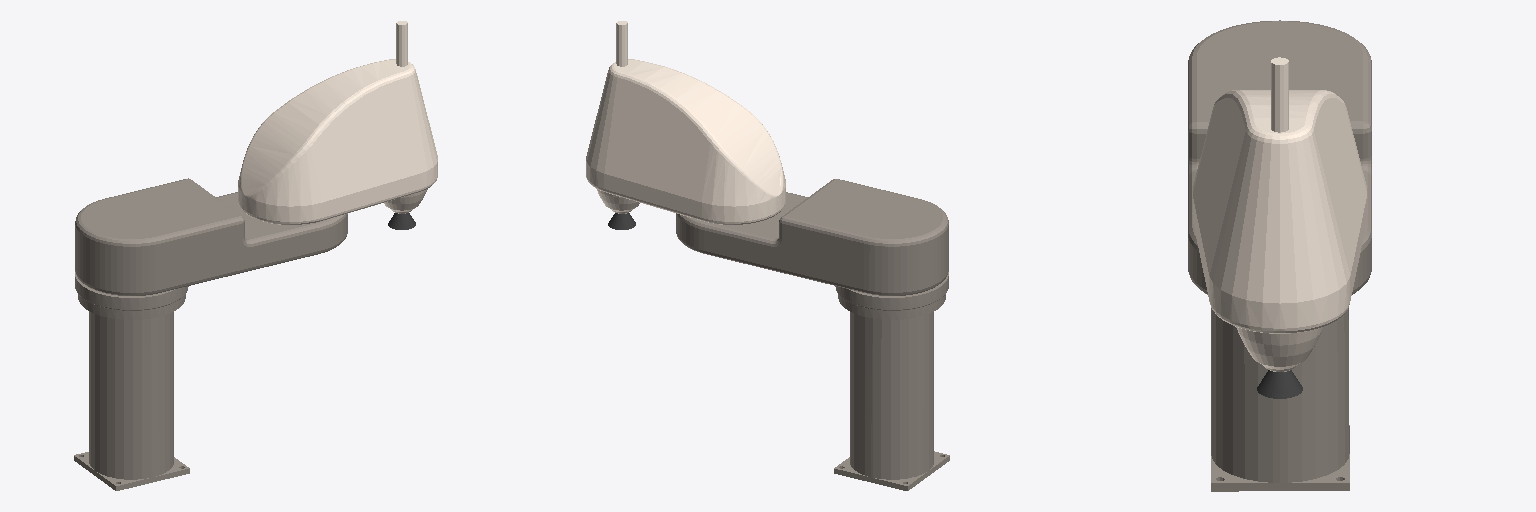
URDF robot description (scara_mit_dh_urdf):
<?xml version="1.0" encoding="utf-8"?>
<!-- This URDF was automatically created by SolidWorks to URDF Exporter! Originally created by [author] ([email redacted]) 
     Commit Version: 1.6.0-4-g7f85cfe  Build Version: 1.6.7995.38578
     For more information, please see http://wiki.ros.org/sw_urdf_exporter -->
<robot
  name="scara_mit_dh_urdf">

  <link name='world'/> 
  <joint name="fixedToWorld" type="fixed">
    <origin
      xyz="0 0 1"
      rpy="-1.57 0 0" />
    <parent link="world" />
    <child link="base_link" />
  </joint>

  <link
    name="base_link">
    <inertial>
      <origin
        xyz="-3.99506576600143E-18 5.33137969018105E-18 0.180234931906412"
        rpy="0 0 0" />
      <mass
        value="50.5064528015554" />
      <inertia
        ixx="0.507467643046138"
        ixy="2.23371852613819E-18"
        ixz="-2.20689887022559E-17"
        iyy="0.507467643046138"
        iyz="7.80868643803156E-18"
        izz="0.164615591191858" />
    </inertial>
    <visual>
      <origin
        xyz="0 0 0"
        rpy="0 0 0" />
      <geometry>
        <mesh
          filename="package://scara_mit_dh_urdf/meshes/base_link.STL" />
      </geometry>
      <material
        name="">
        <color
          rgba="0.650980392156863 0.619607843137255 0.588235294117647 1" />
      </material>
    </visual>
    <collision>
      <origin
        xyz="0 0 0"
        rpy="0 0 0" />
      <geometry>
        <mesh
          filename="package://scara_mit_dh_urdf/meshes/base_link.STL" />
      </geometry>
    </collision>
  </link>
  <link
    name="l1">
    <inertial>
      <origin
        xyz="0.120817727289337 9.30999931508023E-07 0.0513770238788596"
        rpy="0 0 0" />
      <mass
        value="49.5926714803606" />
      <inertia
        ixx="0.222900609838824"
        ixy="2.0310593816954E-17"
        ixz="0.0739678064109204"
        iyy="0.736885929341891"
        iyz="6.2640615149761E-18"
        izz="0.8650916120764" />
    </inertial>
    <visual>
      <origin
        xyz="0 0 0"
        rpy="0 0 0" />
      <geometry>
        <mesh
          filename="package://scara_mit_dh_urdf/meshes/l1.STL" />
      </geometry>
      <material
        name="">
        <color
          rgba="0.650980392156863 0.619607843137255 0.588235294117647 1" />
      </material>
    </visual>
    <collision>
      <origin
        xyz="0 0 0"
        rpy="0 0 0" />
      <geometry>
        <mesh
          filename="package://scara_mit_dh_urdf/meshes/l1.STL" />
      </geometry>
    </collision>
  </link>
  <joint
    name="j1"
    type="revolute">
    <origin
      xyz="0 -0.375 0"
      rpy="1.5708 0 0" />
    <parent
      link="base_link" />
    <child
      link="l1" />
    <axis
      xyz="0 0 1" />
    <limit
      lower="-2.7"
      upper="2.7"
      effort="10000"
      velocity="1" />
    <dynamics
      damping="0.2"
      friction="0.5" />
  </joint>
  <link
    name="l2">
    <inertial>
      <origin
        xyz="-0.112811619112 2.03690357156592E-08 -0.08488266623816"
        rpy="0 0 0" />
      <mass
        value="32.5846948095504" />
      <inertia
        ixx="0.16446281982603"
        ixy="-2.66721834411411E-07"
        ixz="0.00501596079265974"
        iyy="0.377276755482314"
        iyz="1.55740958096566E-07"
        izz="0.328743826647255" />
    </inertial>
    <visual>
      <origin
        xyz="0 0 0"
        rpy="0 0 0" />
      <geometry>
        <mesh
          filename="package://scara_mit_dh_urdf/meshes/l2.STL" />
      </geometry>
      <material
        name="">
        <color
          rgba="1 0.949019607843137 0.898039215686275 1" />
      </material>
    </visual>
    <collision>
      <origin
        xyz="0 0 0"
        rpy="0 0 0" />
      <geometry>
        <mesh
          filename="package://scara_mit_dh_urdf/meshes/l2.STL" />
      </geometry>
    </collision>
  </link>
  <joint
    name="j2"
    type="revolute">
    <origin
      xyz="0.325 0 0.06"
      rpy="3.1416 0 3.1416" />
    <parent
      link="l1" />
    <child
      link="l2" />
    <axis
      xyz="0 0 1" />
    <limit
      lower="-2.7"
      upper="2.7"
      effort="10000"
      velocity="1" />
    <dynamics
      damping="0.2"
      friction="0.5" />
  </joint>
  <link
    name="l3">
    <inertial>
      <origin
        xyz="-1.11022302462516E-16 3.84661319935812E-17 -0.185"
        rpy="0 0 0" />
      <mass
        value="0.460306155603976" />
      <inertia
        ixx="0.00526283371240546"
        ixy="1.18856148373066E-37"
        ixz="-6.80626111769164E-20"
        iyy="0.00526283371240546"
        iyz="2.77378988674234E-34"
        izz="2.30153077801988E-05" />
    </inertial>
    <visual>
      <origin
        xyz="0 0 0"
        rpy="0 0 0" />
      <geometry>
        <mesh
          filename="package://scara_mit_dh_urdf/meshes/l3.STL" />
      </geometry>
      <material
        name="">
        <color
          rgba="1 0.949019607843137 0.898039215686275 1" />
      </material>
    </visual>
    <collision>
      <origin
        xyz="0 0 0"
        rpy="0 0 0" />
      <geometry>
        <mesh
          filename="package://scara_mit_dh_urdf/meshes/l3.STL" />
      </geometry>
    </collision>
  </link>
  <joint
    name="j3"
    type="prismatic">
    <origin
      xyz="-0.225 0 0.06926"
      rpy="0 0 0" />
    <parent
      link="l2" />
    <child
      link="l3" />
    <axis
      xyz="0 0 1" />
    <limit
      lower="0"
      upper="290"
      effort="10000"
      velocity="1" />
    <dynamics
      damping="0.2"
      friction="0.5" />
  </joint>
  <link
    name="l4">
    <inertial>
      <origin
        xyz="-3.33066907387547E-16 4.16333634234434E-17 0.0115960504326883"
        rpy="0 0 0" />
      <mass
        value="0.00734707672394354" />
      <inertia
        ixx="1.56955034877565E-06"
        ixy="-1.85288457211878E-22"
        ixz="-2.27667438887459E-22"
        iyy="1.56955034877565E-06"
        iyz="-6.48270541037055E-23"
        izz="2.46567234921726E-06" />
    </inertial>
    <visual>
      <origin
        xyz="0 0 0"
        rpy="0 0 0" />
      <geometry>
        <mesh
          filename="package://scara_mit_dh_urdf/meshes/l4.STL" />
      </geometry>
      <material
        name="">
        <color
          rgba="0.298039215686275 0.298039215686275 0.298039215686275 1" />
      </material>
    </visual>
    <collision>
      <origin
        xyz="0 0 0"
        rpy="0 0 0" />
      <geometry>
        <mesh
          filename="package://scara_mit_dh_urdf/meshes/l4.STL" />
      </geometry>
    </collision>
  </link>
  <joint
    name="j4"
    type="revolute">
    <origin
      xyz="0 0 0"
      rpy="0 0 -3.0137" />
    <parent
      link="l3" />
    <child
      link="l4" />
    <axis
      xyz="0 0 1" />
    <limit
      lower="-6.2"
      upper="6.2"
      effort="10000"
      velocity="1" />
    <dynamics
      damping="0.2"
      friction="0.5" />
  </joint>

    <transmission name="trans_j1">
        <type>transmission_interface/SimpleTransmission</type>
        <joint name="j1">
            <hardwareInterface>hardware_interface/PositionJointInterface</hardwareInterface>
        </joint>
        <actuator name="j1_motor">
            <hardwareInterface>hardware_interface/PositionJointInterface</hardwareInterface>
            <mechanicalReduction>1</mechanicalReduction>
        </actuator>
    </transmission>
    <transmission name="trans_j2">
        <type>transmission_interface/SimpleTransmission</type>
        <joint name="j2">
            <hardwareInterface>hardware_interface/PositionJointInterface</hardwareInterface>
        </joint>
        <actuator name="j2_motor">
            <hardwareInterface>hardware_interface/PositionJointInterface</hardwareInterface>
            <mechanicalReduction>1</mechanicalReduction>
        </actuator>
    </transmission>
    <transmission name="trans_j3">
        <type>transmission_interface/SimpleTransmission</type>
        <joint name="j3">
            <hardwareInterface>hardware_interface/PositionJointInterface</hardwareInterface>
        </joint>
        <actuator name="j3_motor">
            <hardwareInterface>hardware_interface/PositionJointInterface</hardwareInterface>
            <mechanicalReduction>1</mechanicalReduction>
        </actuator>
    </transmission>
    <transmission name="trans_j4">
        <type>transmission_interface/SimpleTransmission</type>
        <joint name="j4">
            <hardwareInterface>hardware_interface/PositionJointInterface</hardwareInterface>
        </joint>
        <actuator name="j4_motor">
            <hardwareInterface>hardware_interface/PositionJointInterface</hardwareInterface>
            <mechanicalReduction>1</mechanicalReduction>
        </actuator>
    </transmission>

    
    <!--Gazebo Plugins -->
    <gazebo>
        <plugin name="control" filename="libgazebo_ros_control.so">
        </plugin>
    </gazebo>
    <gazebo>
        <plugin name = "joint_state_publisher" filename = "libgazebo_ros_joint_state_publisher.so" >
		<jointName>j1, j2, j3, j4</jointName>
        </plugin>
    </gazebo>

</robot>

--- Render facts (derived) ---
The picture shows the robot from 3 angles, left to right: view 1: azimuth 30°, elevation 25°; view 2: azimuth 150°, elevation 25°; view 3: azimuth 270°, elevation 25°; orthographic projection.
Model scara_mit_dh_urdf with 6 links and 5 joints (3 revolute, 1 prismatic, 1 fixed), rooted at world, posed every joint at zero.
Visible links, largest first — view 1: l2, l1, base_link, l3; view 2: l2, l1, base_link, l3; view 3: l2, base_link, l1, l3, l4.
Boxes of the visible links, x1,y1,x2,y2 form: l2: (238, 59, 437, 224); l1: (75, 178, 347, 295); base_link: (74, 272, 189, 490); l3: (396, 21, 407, 66); l2: (586, 59, 785, 224); l1: (676, 179, 948, 295); base_link: (834, 272, 949, 490); l3: (616, 21, 627, 66); l2: (1192, 90, 1366, 371); base_link: (1211, 308, 1349, 491); l1: (1188, 20, 1371, 294); l3: (1271, 57, 1288, 132); l4: (1257, 370, 1302, 398).
Size in the robot's own frame: 0.712 by 0.2001 by 0.7358 metres.
Meshes: 5 distinct files referenced, 5 mesh visuals loaded (5 binary STL).